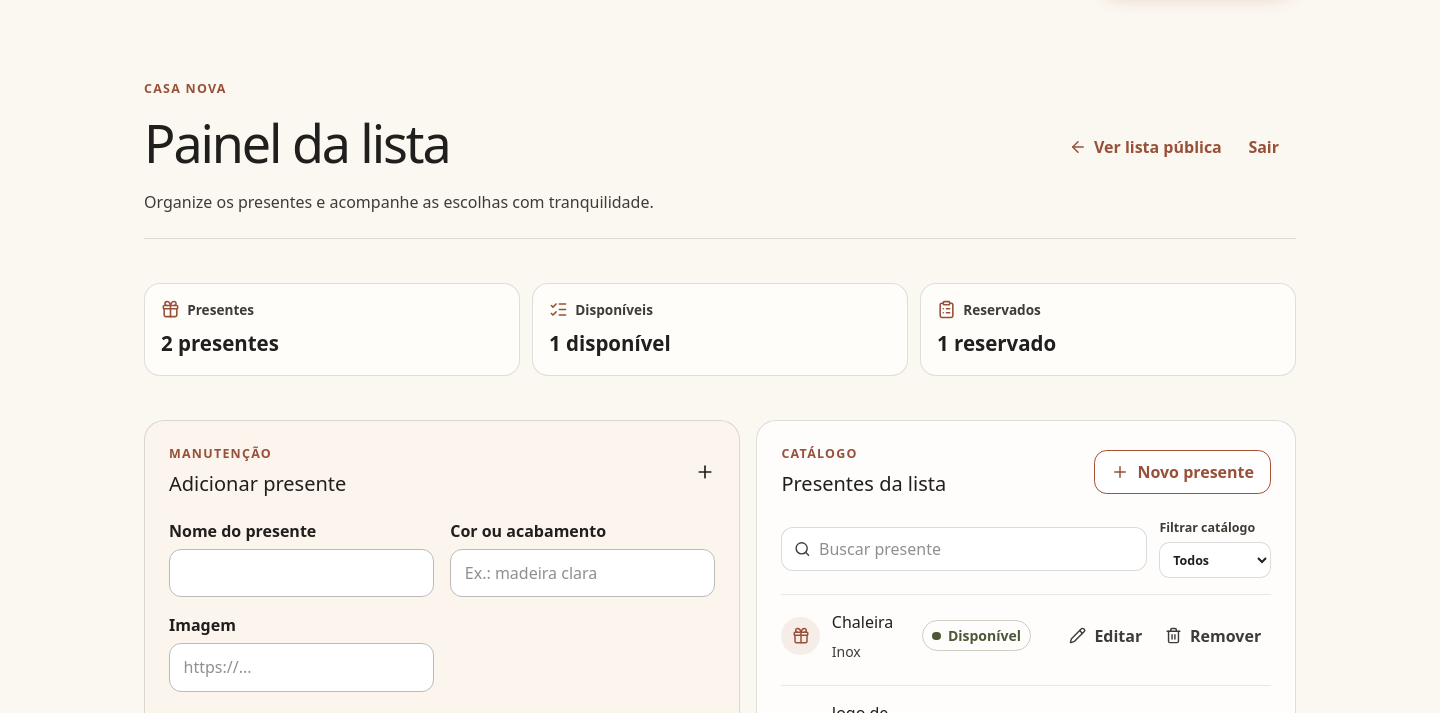
Test: AdminPage › abre a edição com os dados existentes e salva a alteração
Check: the text "2 presentes" is shown, box [161, 329, 279, 357]
Click the button with aria-label "Editar Chaleira" at (1106, 636), box [1060, 615, 1152, 657]
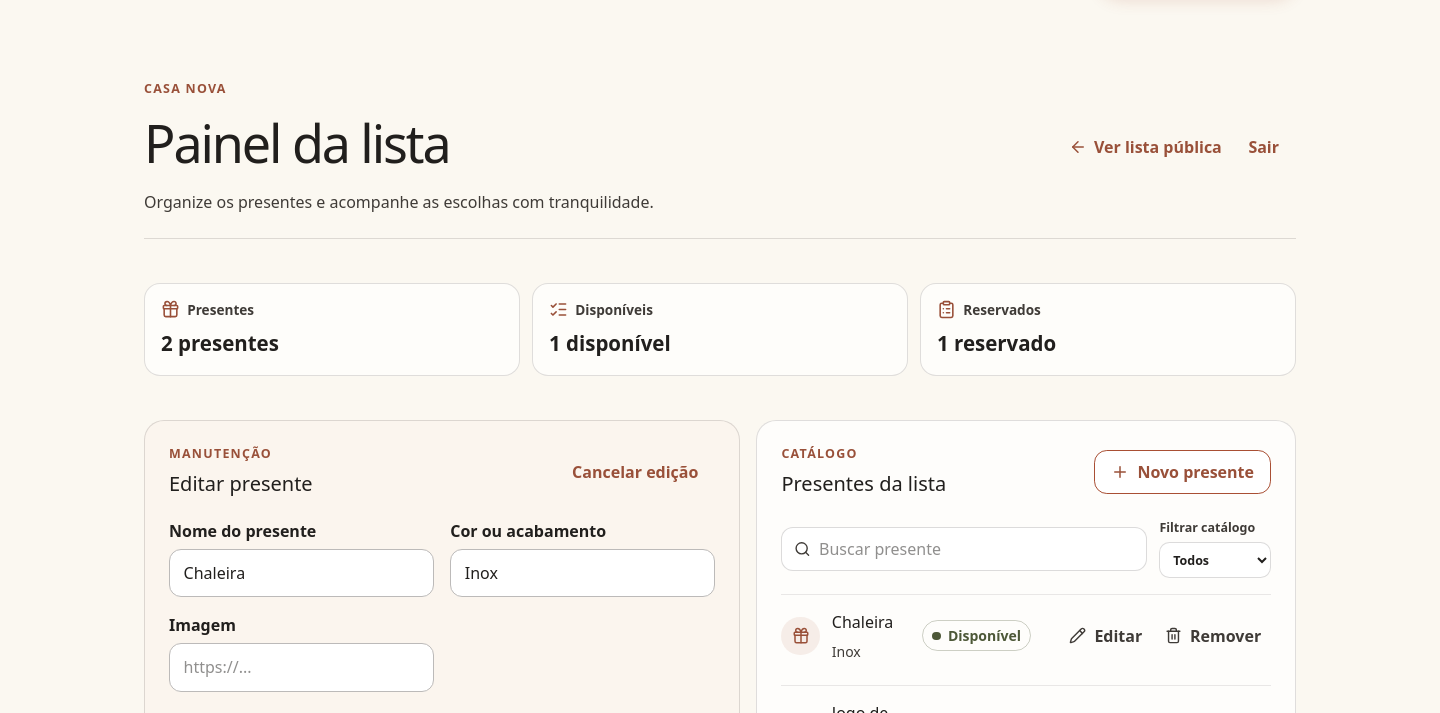
Check: the heading "Editar presente" is shown, box [169, 469, 313, 499]
Check: the field labelled "Nome do presente" holds "Chaleira"
Replace the text in the field labelled "Nome do presente" with "Chaleira elétrica" at (302, 573), box [169, 549, 434, 597]
(page scrolled)
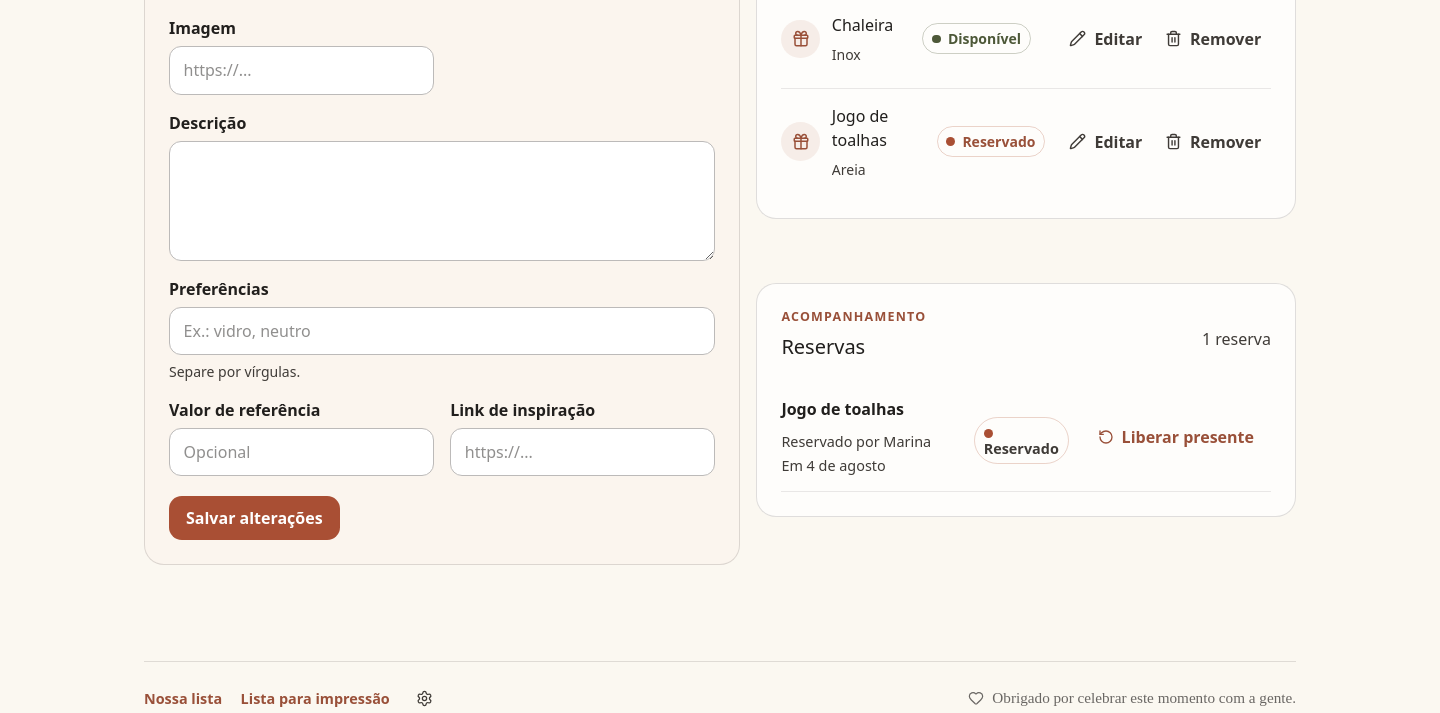
Click the button "Salvar alterações" at (254, 518), box [169, 496, 340, 540]
(page scrolled)
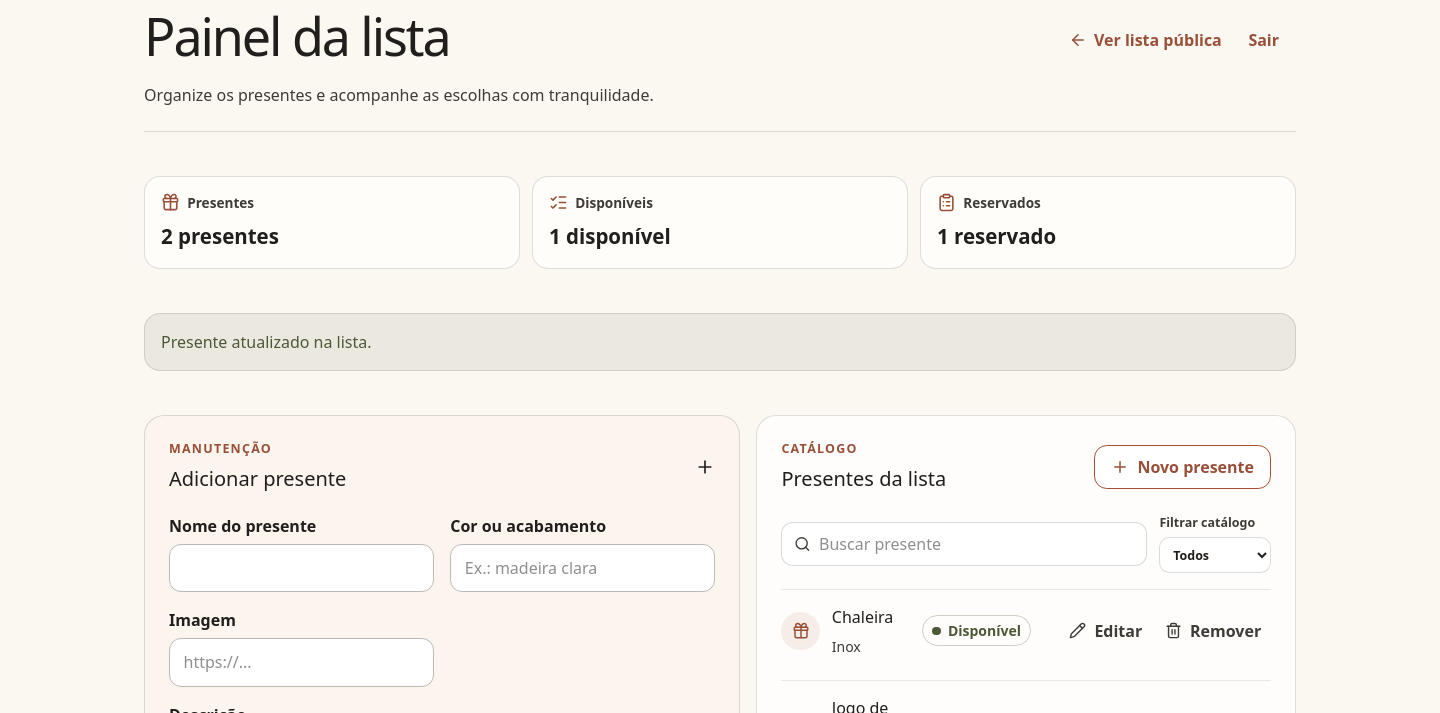
Check: the message reads "Presente atualizado na lista.", box [161, 331, 372, 353]
